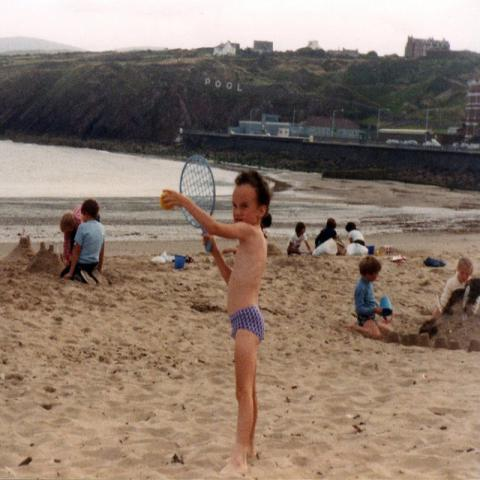car: (423, 138, 442, 146), (403, 138, 420, 145), (450, 142, 461, 150), (468, 144, 479, 151), (386, 138, 401, 143), (460, 144, 470, 150)
